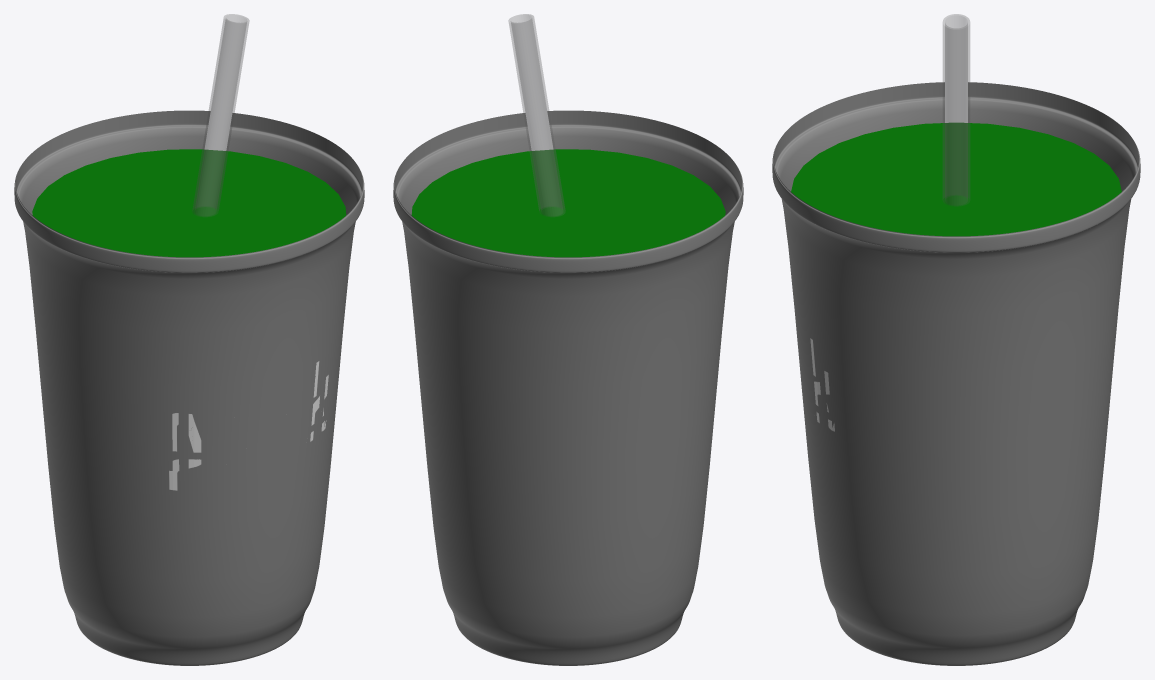
The model's file is paak.gltf.
3 views of the same model, side by side, from view 1: azimuth 30°, elevation 25°; view 2: azimuth 150°, elevation 25°; view 3: azimuth 270°, elevation 25° (orthographic). The views are drawn at different scales.
Visible parts, largest first — view 1: White Paper cup, Cylinder, Cylinder.001, paakLogoWhite; view 2: White Paper cup, Cylinder, Cylinder.001; view 3: White Paper cup, Cylinder, Cylinder.001.
Boxes of the visible parts, bbox=[...] form: White Paper cup: bbox=[14, 110, 364, 665]; Cylinder: bbox=[32, 149, 346, 257]; Cylinder.001: bbox=[192, 14, 249, 216]; paakLogoWhite: bbox=[169, 361, 328, 490]; White Paper cup: bbox=[393, 110, 743, 665]; Cylinder: bbox=[411, 149, 725, 257]; Cylinder.001: bbox=[508, 14, 565, 216]; White Paper cup: bbox=[772, 82, 1140, 665]; Cylinder: bbox=[791, 123, 1121, 236]; Cylinder.001: bbox=[943, 14, 969, 205].
Size of the model in its own units: 1.34 by 2.49 by 1.34.
Materials: 4 (1 with a texture image).
